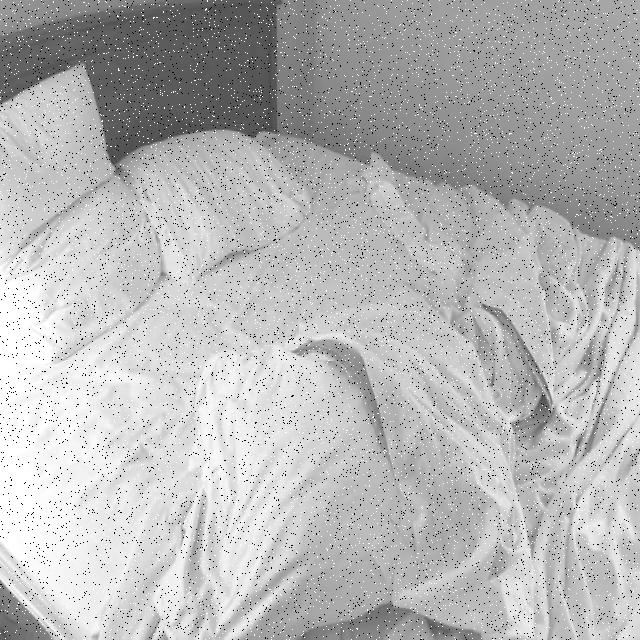bed: (4, 24, 640, 640)
